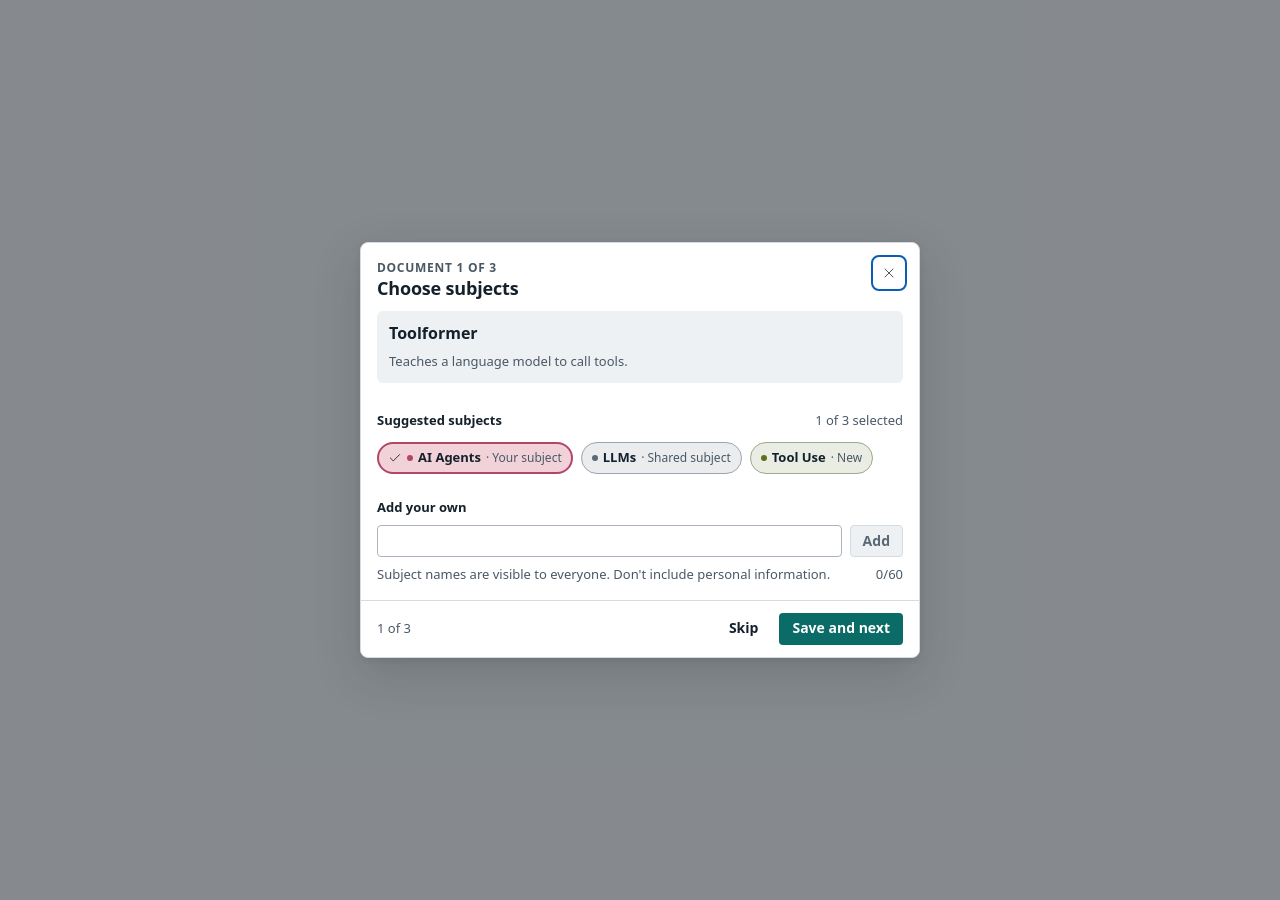
SubjectPicker › in a step-through › stays on the document when a save fails in a step-through
This screenshot has width=1280, height=900.
Click the button "Save and next": (841, 629) [779, 613, 903, 645]
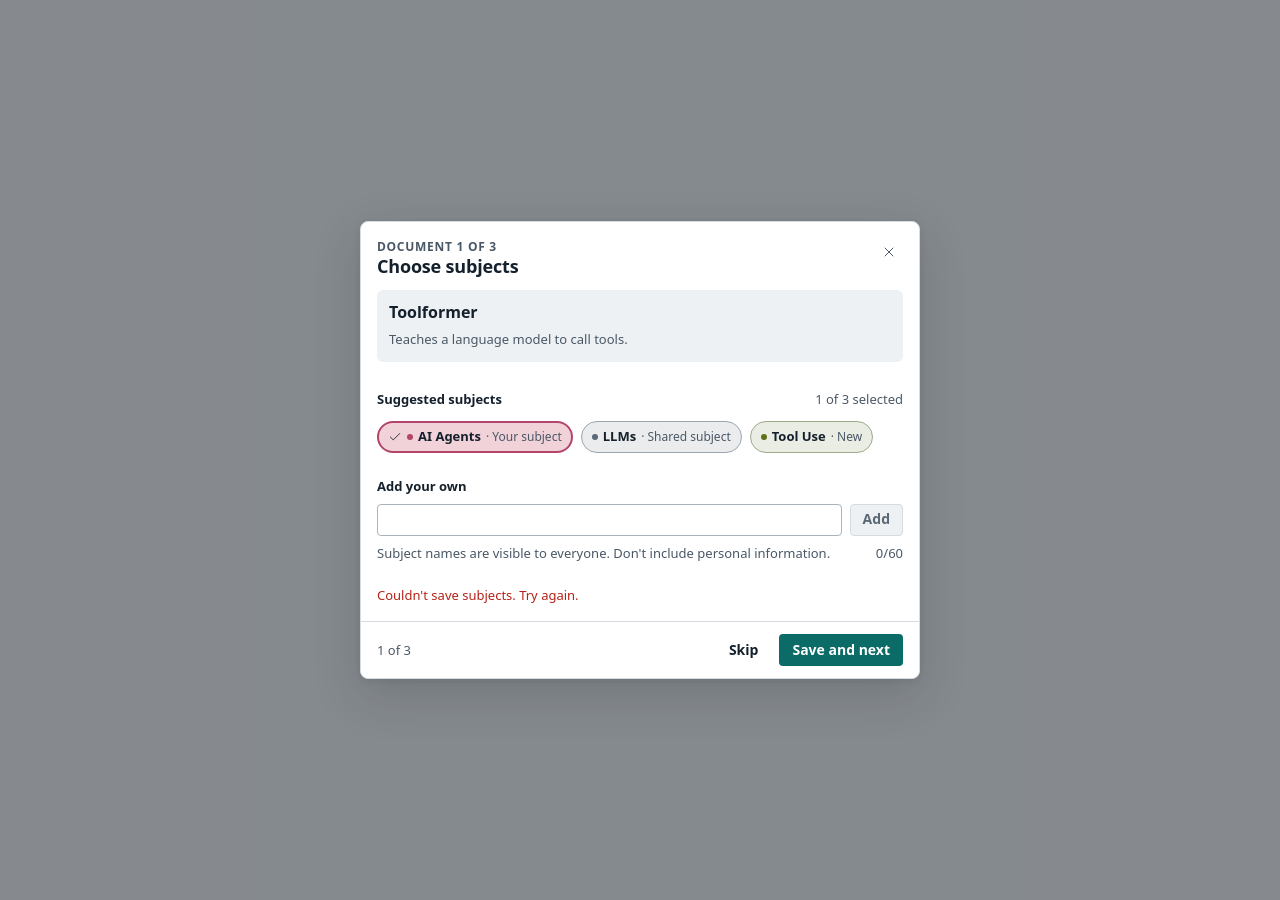
expect the message shows "Couldn't save subjects": met, box [377, 586, 579, 604]
